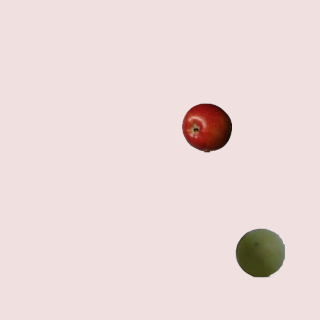Apple Braeburn: (181, 102, 231, 152)
Grape White 4: (234, 227, 284, 277)
